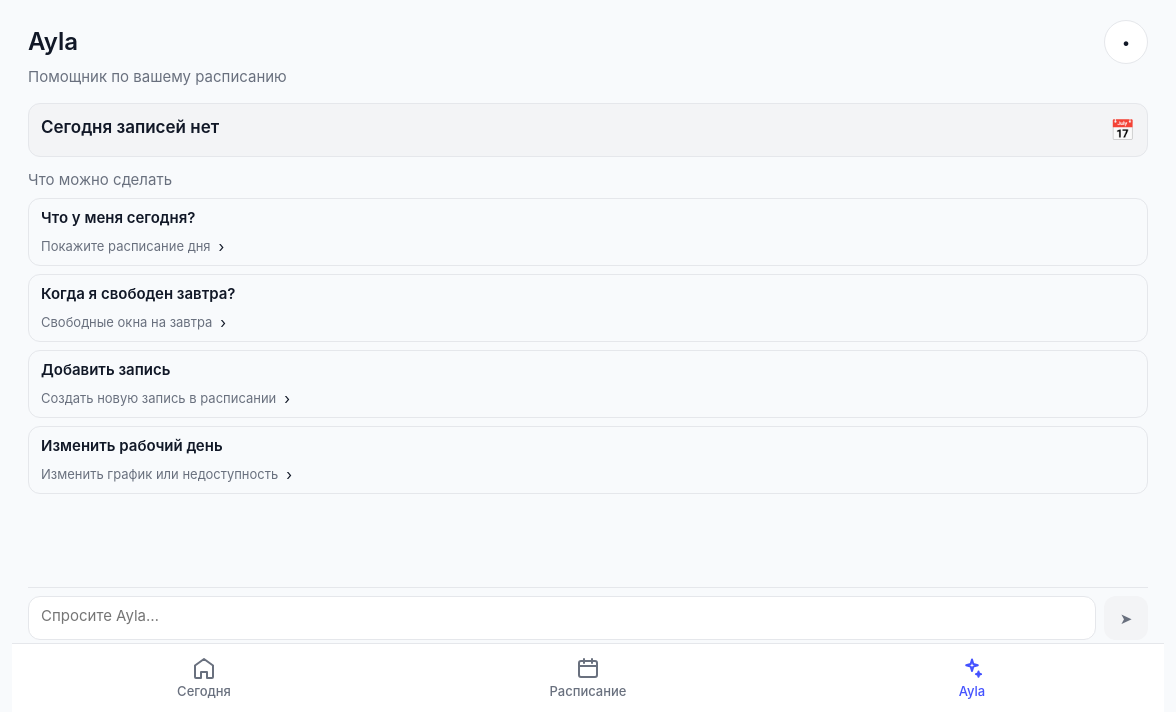
it: мёртвый талон › показывает текст отказа — он же и говорит, что делать
Type "хочу выходной" into the text box named "Вопрос к Ayla" at [562, 618], box [28,596,1096,640]
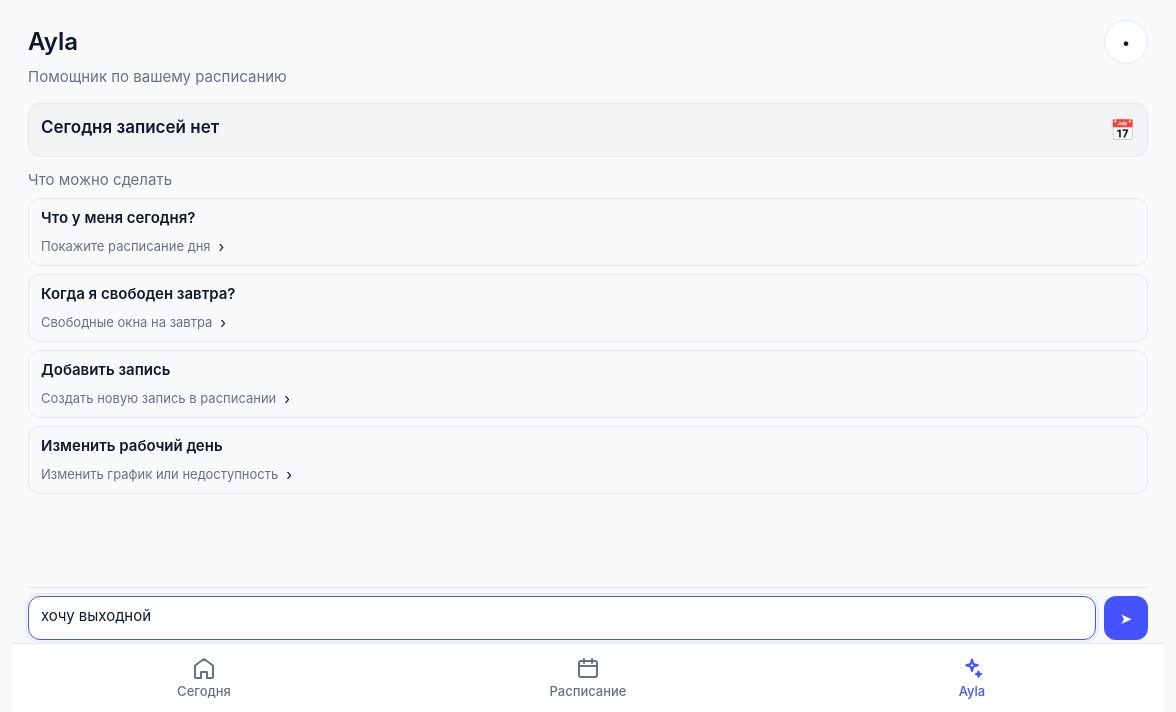
Click the button named "Отправить" at [1126, 618], box [1104,596,1148,640]
(page scrolled)
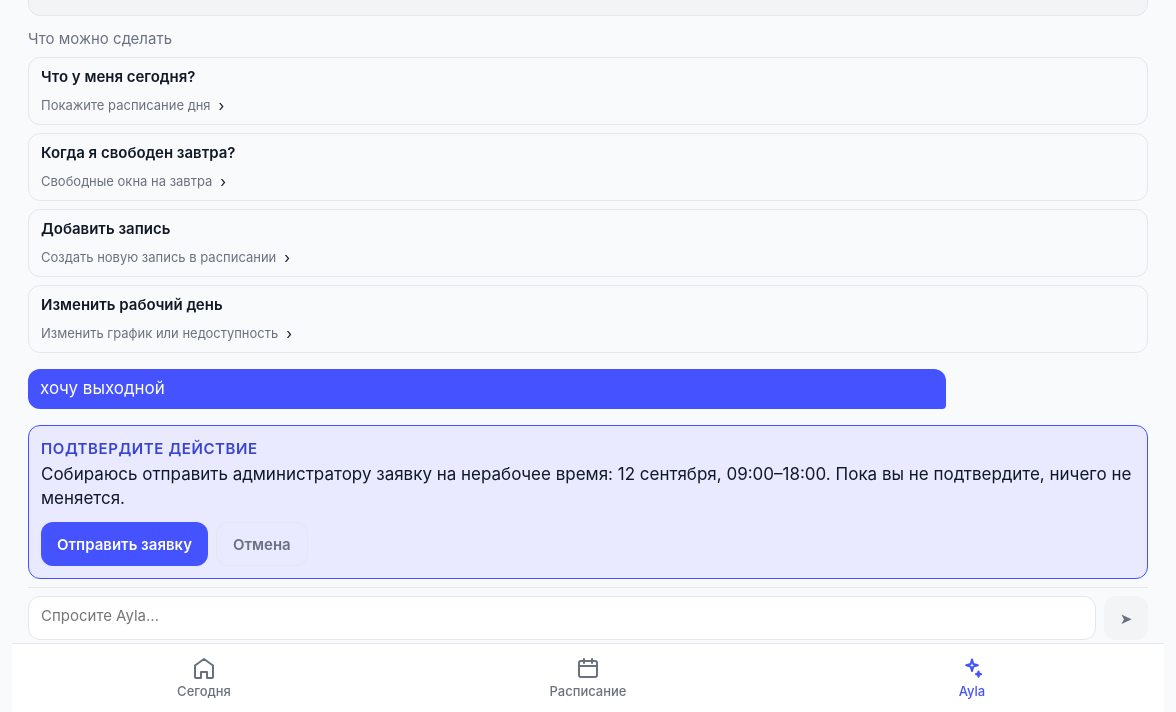
Expected: the button "Отправить заявку" is shown
Click the button "Отправить заявку" at [124, 544], box [41,522,208,566]
(page scrolled)
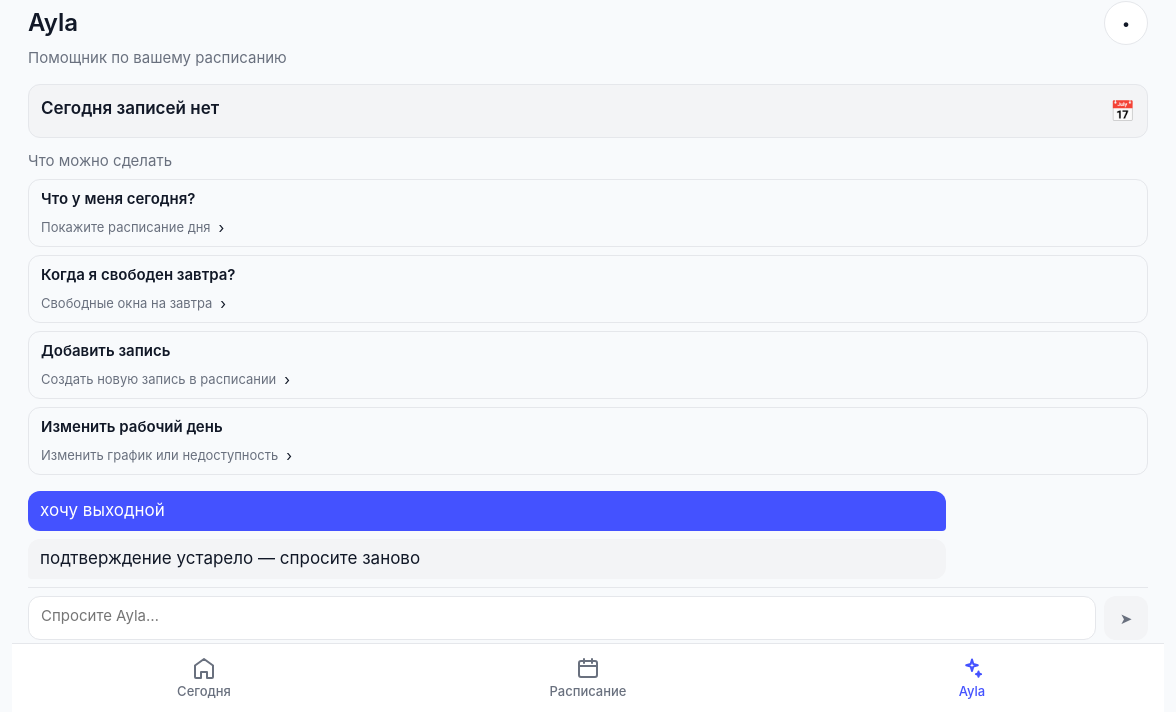
Expected: the text "подтверждение устарело — спросите заново" is shown, [40,548,420,568]
